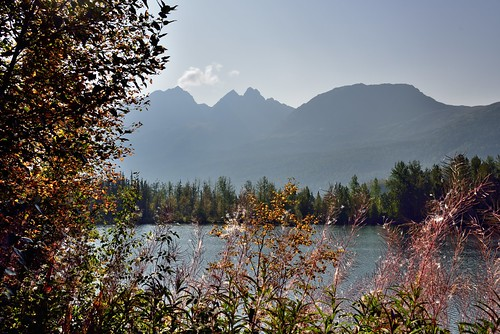mountain: (305, 63, 430, 114), (203, 74, 290, 115), (136, 71, 195, 105)
river: (121, 220, 500, 303)
sky: (173, 1, 500, 69)
vegetation: (78, 205, 500, 334), (1, 1, 156, 334), (130, 163, 500, 222)
